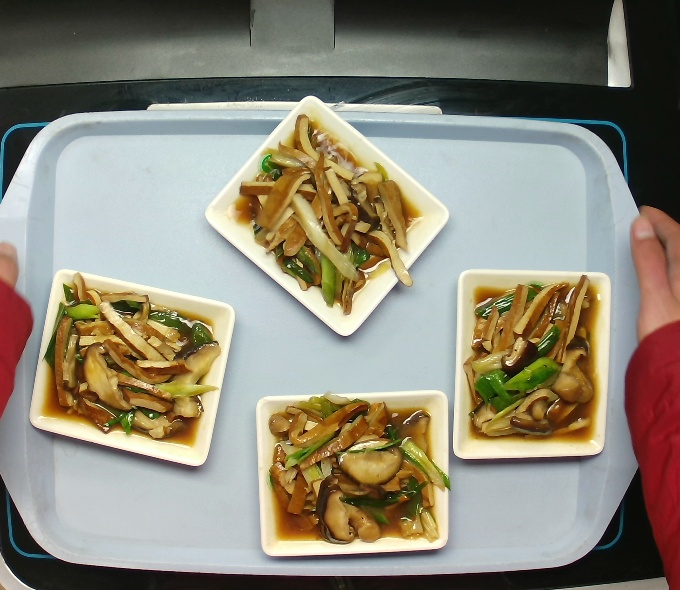wcq-XiangGuChaoXiangGan: (236, 114, 416, 316), (42, 278, 220, 442), (268, 396, 437, 545), (463, 274, 597, 442)
